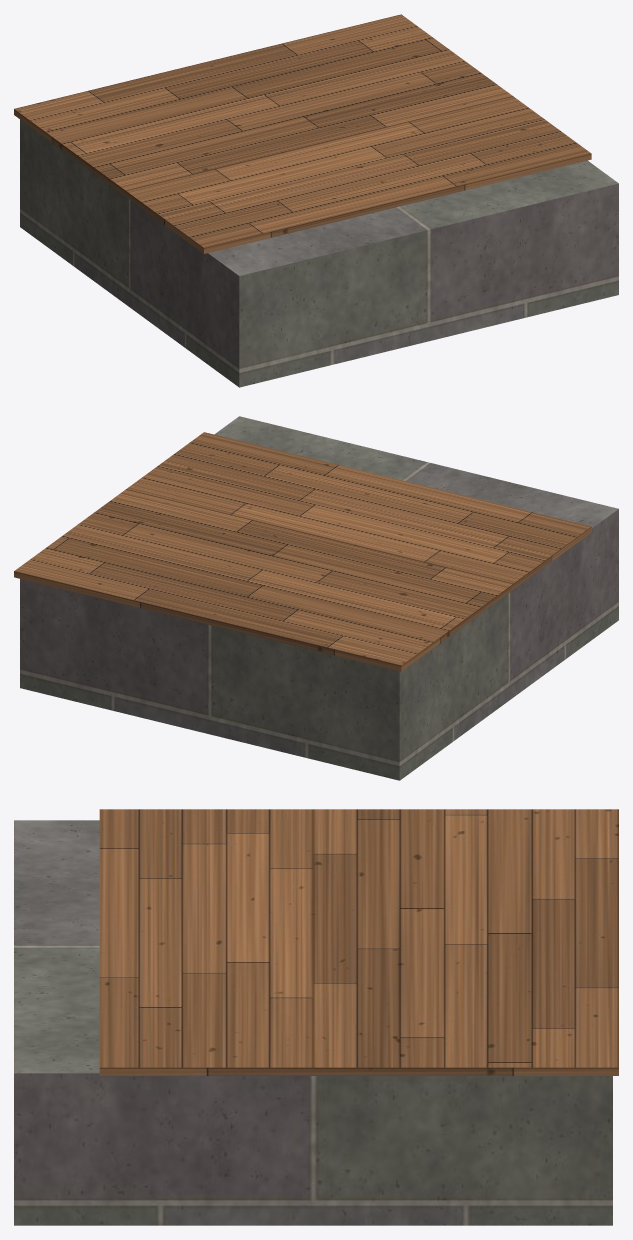
Rendered from floor_floor_g_e0001.glb.
The picture shows the model from 3 angles, top to bottom: view 1: azimuth 30°, elevation 25°; view 2: azimuth 150°, elevation 25°; view 3: azimuth 270°, elevation 25°; orthographic projection. The views are drawn at different scales.
Visible parts, largest first — view 1: floor_floor_g_e0001_plinth, floor_floor_g_e0001_floor; view 2: floor_floor_g_e0001_floor, floor_floor_g_e0001_plinth; view 3: floor_floor_g_e0001_floor, floor_floor_g_e0001_plinth.
Boxes of the visible parts, bbox=[...] form: floor_floor_g_e0001_plinth: bbox=[20, 119, 618, 387]; floor_floor_g_e0001_floor: bbox=[14, 14, 591, 253]; floor_floor_g_e0001_floor: bbox=[14, 432, 591, 671]; floor_floor_g_e0001_plinth: bbox=[20, 416, 618, 780]; floor_floor_g_e0001_floor: bbox=[99, 809, 618, 1075]; floor_floor_g_e0001_plinth: bbox=[14, 820, 612, 1225].
Bounding box in the file's own units: 2 × 0.58 × 1.98.
Materials: 2 (2 with a texture image).
